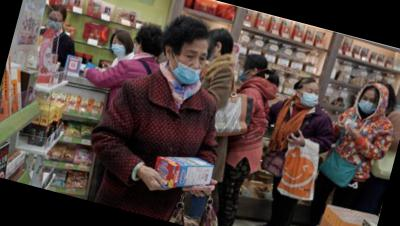mask_weared_incorrect: (169, 43, 210, 88)
with_mask: (298, 85, 323, 111), (358, 93, 383, 116), (44, 12, 64, 33), (110, 38, 130, 59), (238, 62, 255, 84)
